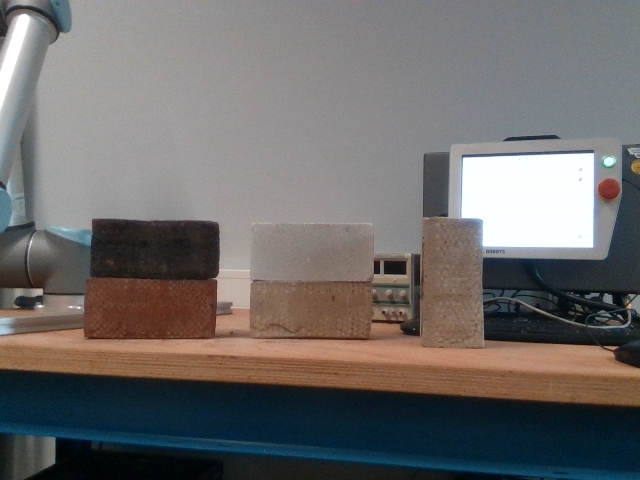brick: (424, 217, 483, 347), (85, 279, 214, 334), (92, 221, 217, 276), (254, 224, 372, 279), (252, 284, 370, 339)
